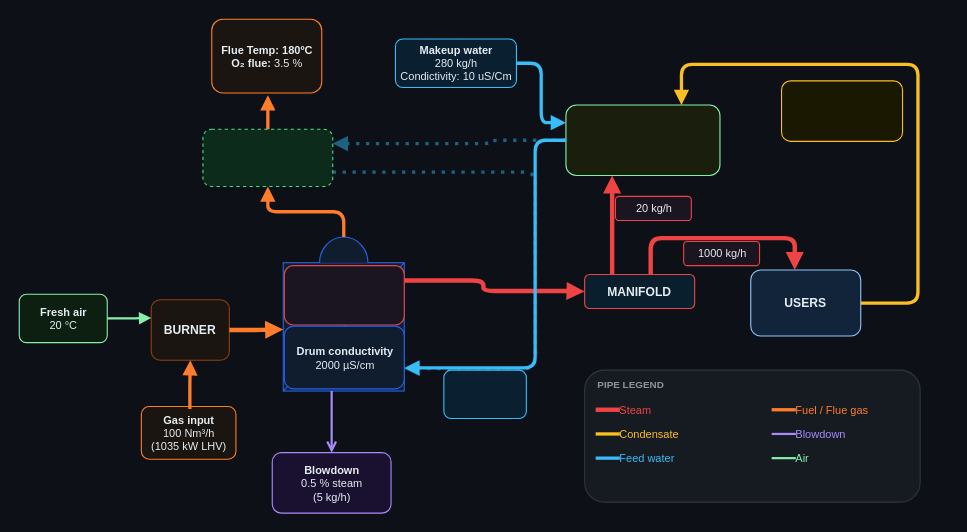
Some shapes in this 967 by 532 pixel diagram are drawn without their labels. Here are the shapes that lost their labels. From the top down, the box of each, then its label:
(780, 80, 903, 141): Cond. return 700 kg/h (70%) 80 °C Conductivity: 20 uS/cm
(202, 128, 333, 186): ECONOMIZER x kW recovered T_in = 180 ºC T_ou = 180ºC
(565, 104, 720, 175): DEAERATOR Pressure: 0.2 bar(g) T=120ºC Conductivity: 100 uS/cm
(283, 265, 404, 325): Drum pressure 10.0 bar(g) T_sat = 184 °C
(443, 369, 526, 419): FW 1005 kg/h 120 °C
